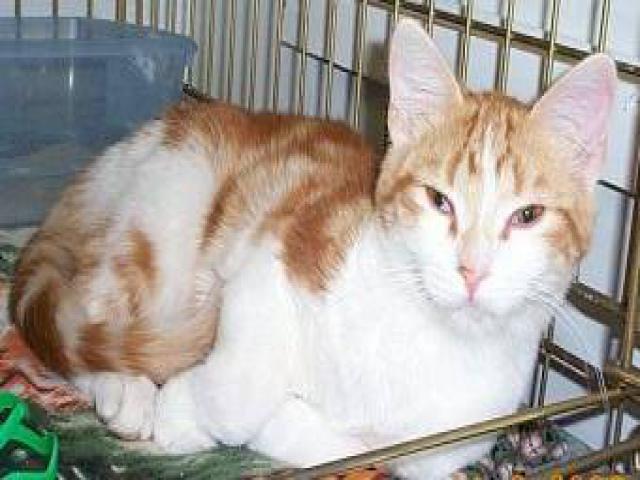cat: (3, 52, 610, 473)
